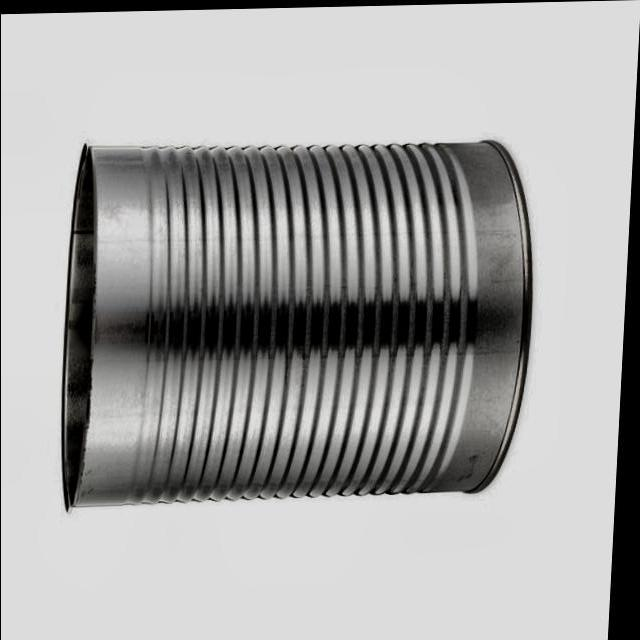litter: (42, 118, 556, 514)
